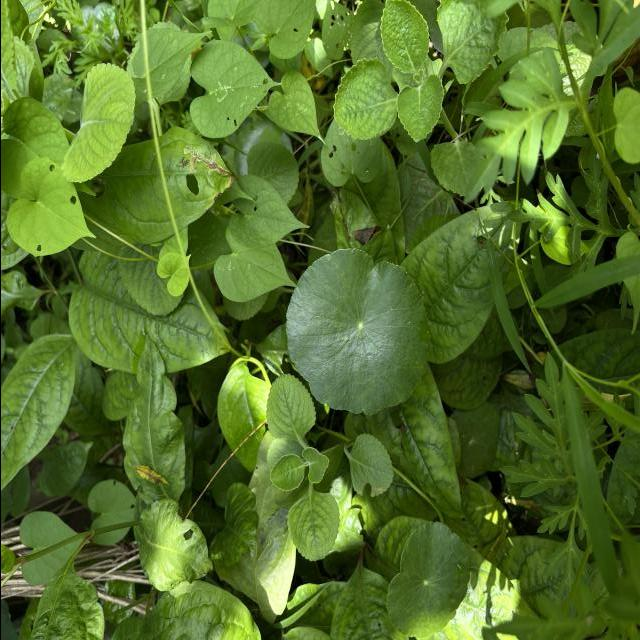Bacopa monnieri: (282, 246, 432, 418), (383, 519, 472, 640)
